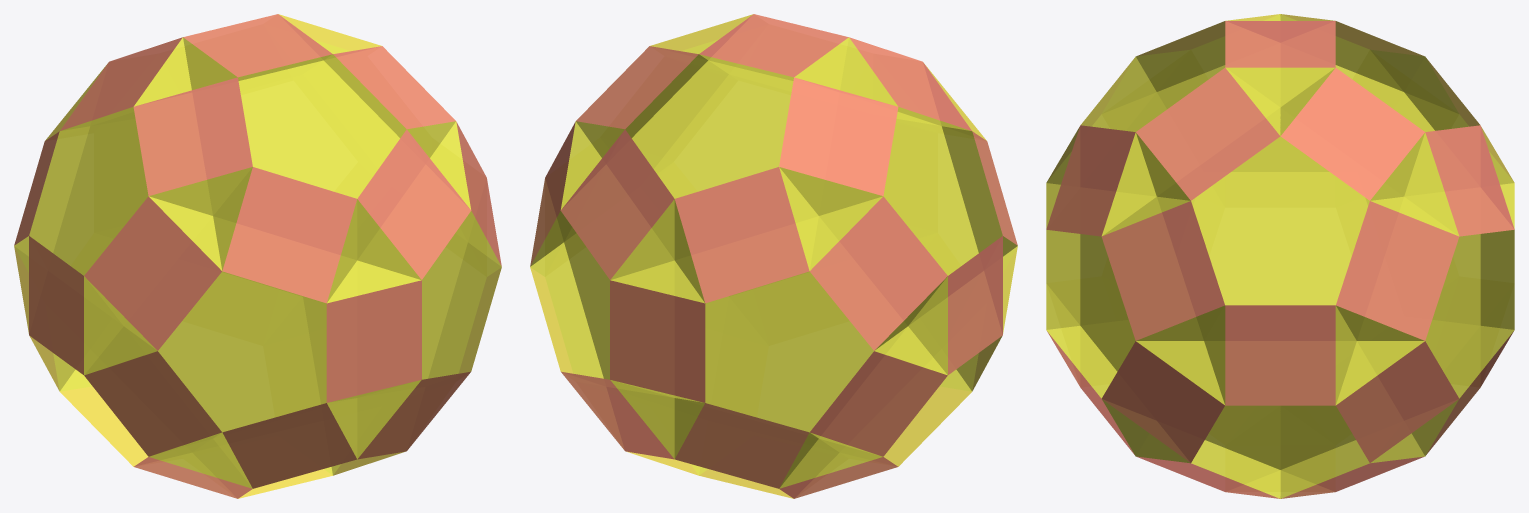
The model's file is SmallRhombidodecahedron.obj.
3 views of the same model, side by side, from view 1: azimuth 30°, elevation 25°; view 2: azimuth 150°, elevation 25°; view 3: azimuth 270°, elevation 25° (orthographic).
Bounding box in the file's own units: 4.24 × 4.24 × 4.24.
